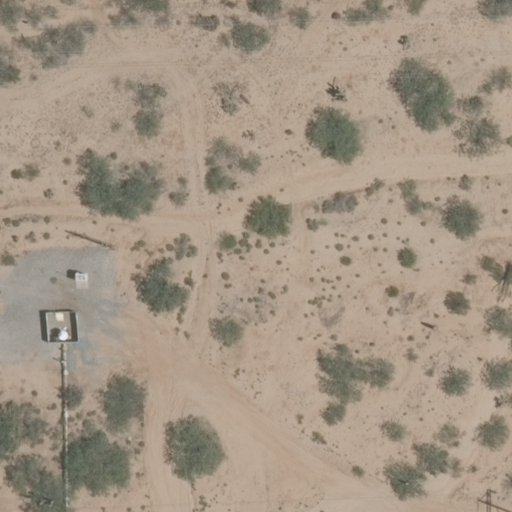DT: (98, 234, 121, 255)
